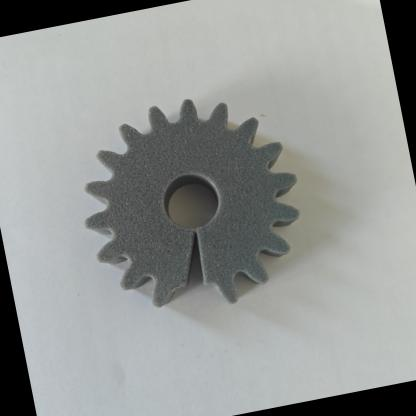defect: (137, 211, 249, 317)
gear: (43, 63, 348, 359)
